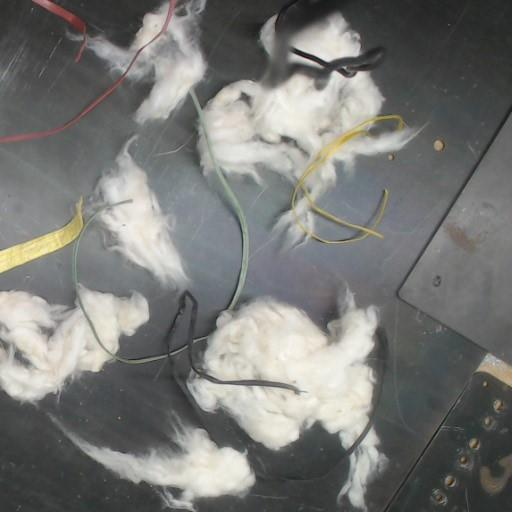conveyor belt: (229, 0, 511, 511), (233, 0, 511, 511), (0, 360, 347, 511), (132, 100, 241, 334), (133, 101, 240, 335), (0, 80, 148, 249), (0, 83, 143, 248), (0, 400, 159, 511), (0, 0, 110, 132), (78, 224, 177, 357), (79, 226, 177, 356), (199, 432, 347, 511), (58, 363, 192, 449), (197, 0, 285, 103), (198, 0, 280, 103), (0, 248, 71, 303)
cotton: (204, 11, 383, 184), (186, 295, 377, 450), (51, 416, 255, 509), (87, 0, 207, 123), (93, 136, 188, 290), (0, 291, 110, 402), (305, 132, 410, 198), (80, 287, 148, 356), (338, 427, 386, 511)
thread: (72, 213, 302, 393), (0, 0, 178, 143), (290, 114, 404, 244), (189, 89, 248, 312), (322, 322, 390, 475), (0, 200, 83, 273), (32, 0, 86, 61), (288, 46, 385, 77), (276, 0, 299, 23), (56, 6, 78, 25), (274, 475, 317, 480)
